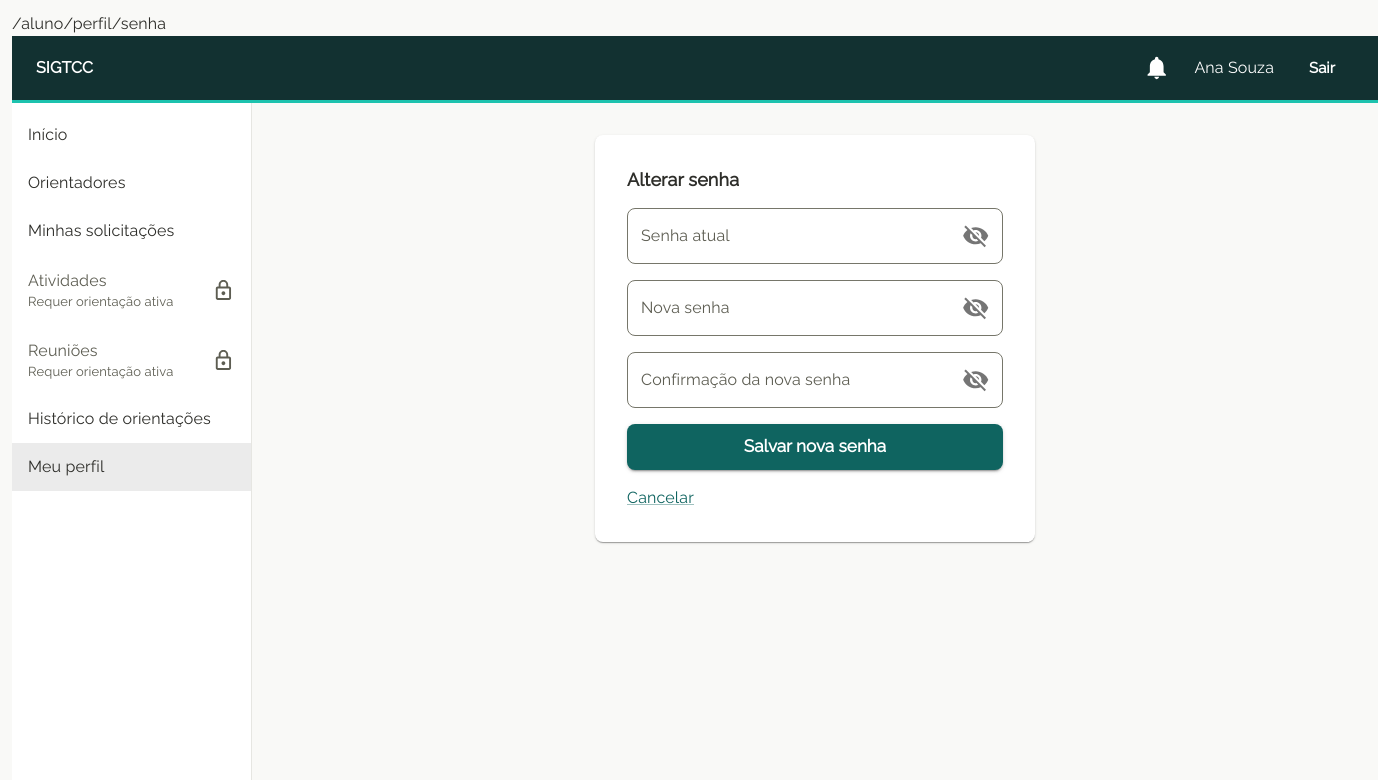
Test case: ChangePasswordPage: a troca › este dispositivo continua conectado: o pedido seguinte já leva o novo token, sem pedir login
The width and height of the screenshot is (1378, 780).
Check: the heading "Alterar senha" is shown, box x1=627 y1=169 x2=739 y2=190
Type "senha-atual-123" into the password field labelled "Senha atual" at (784, 236), box x1=627 y1=208 x2=942 y2=264
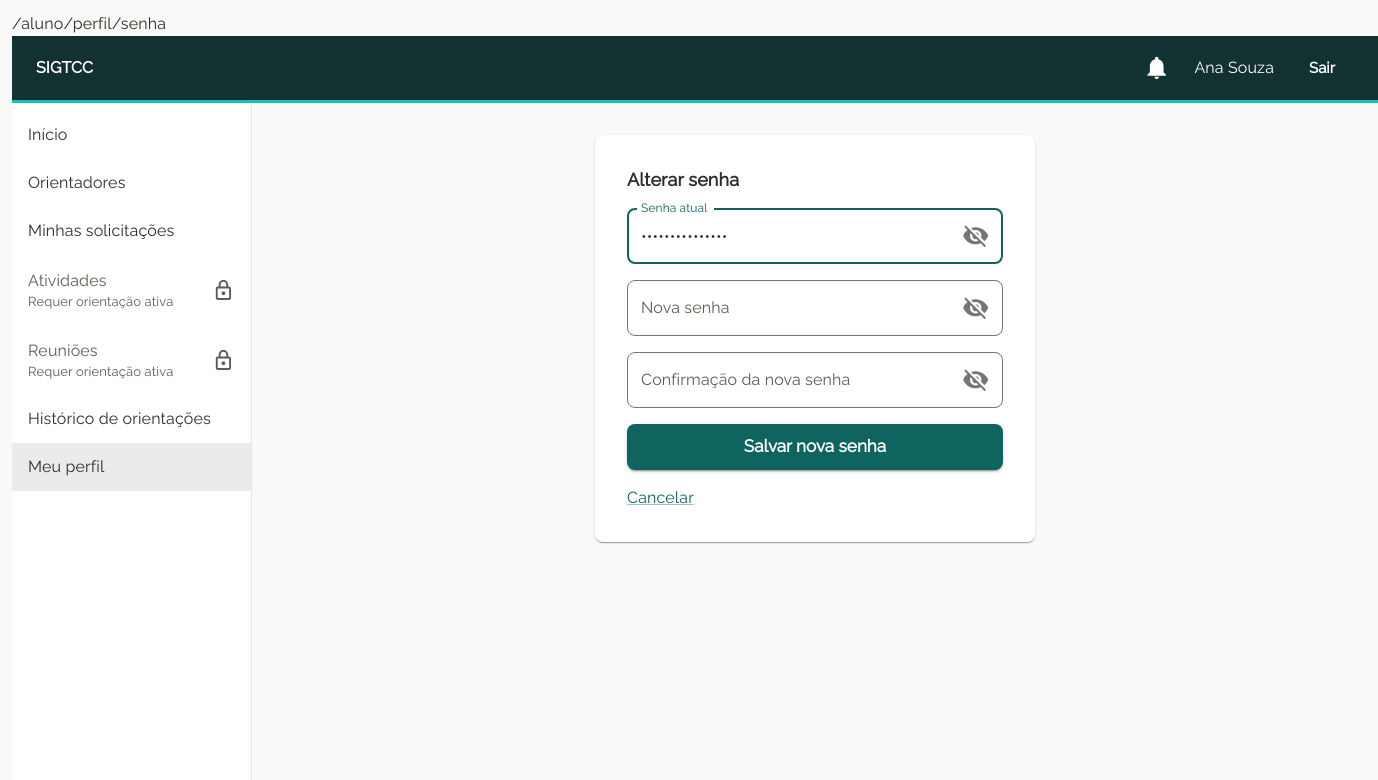
Type "NovaSenha#456" into the password field labelled "Nova senha" at (784, 308), box x1=627 y1=280 x2=942 y2=336
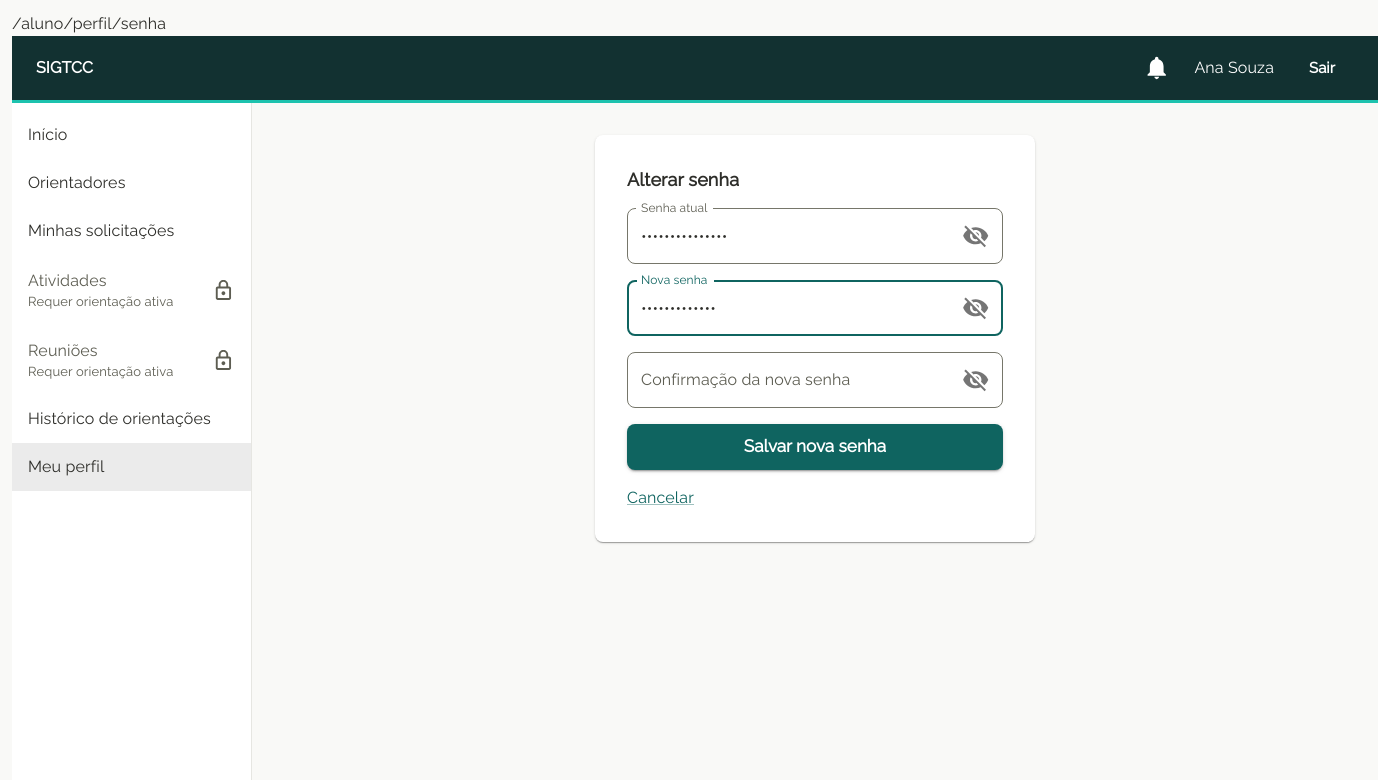
Type "NovaSenha#456" into the password field labelled "Confirmação da nova senha" at (784, 380), box x1=627 y1=352 x2=942 y2=408
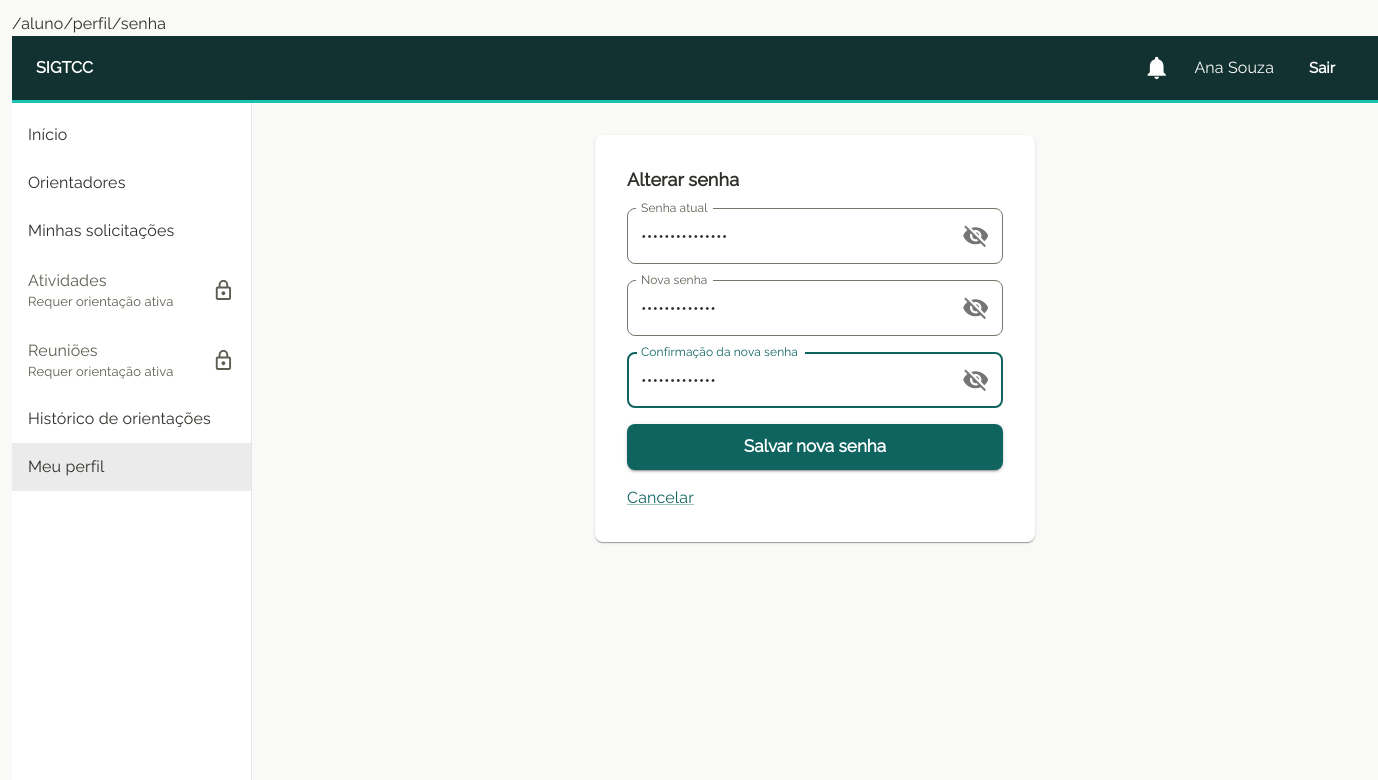
Click the button "Salvar nova senha" at (815, 447), box x1=627 y1=424 x2=1003 y2=470
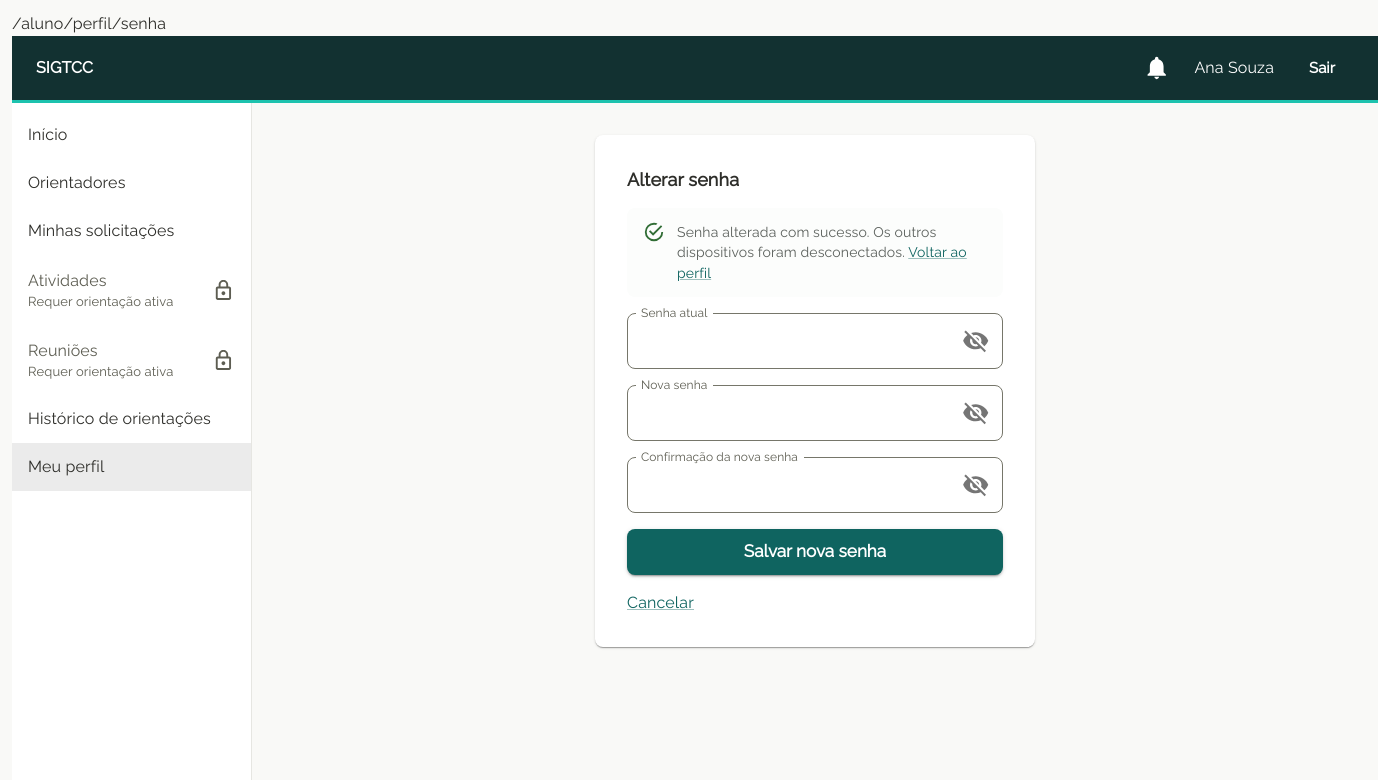
Click the link "Voltar ao perfil" at (938, 252), box x1=677 y1=244 x2=967 y2=281
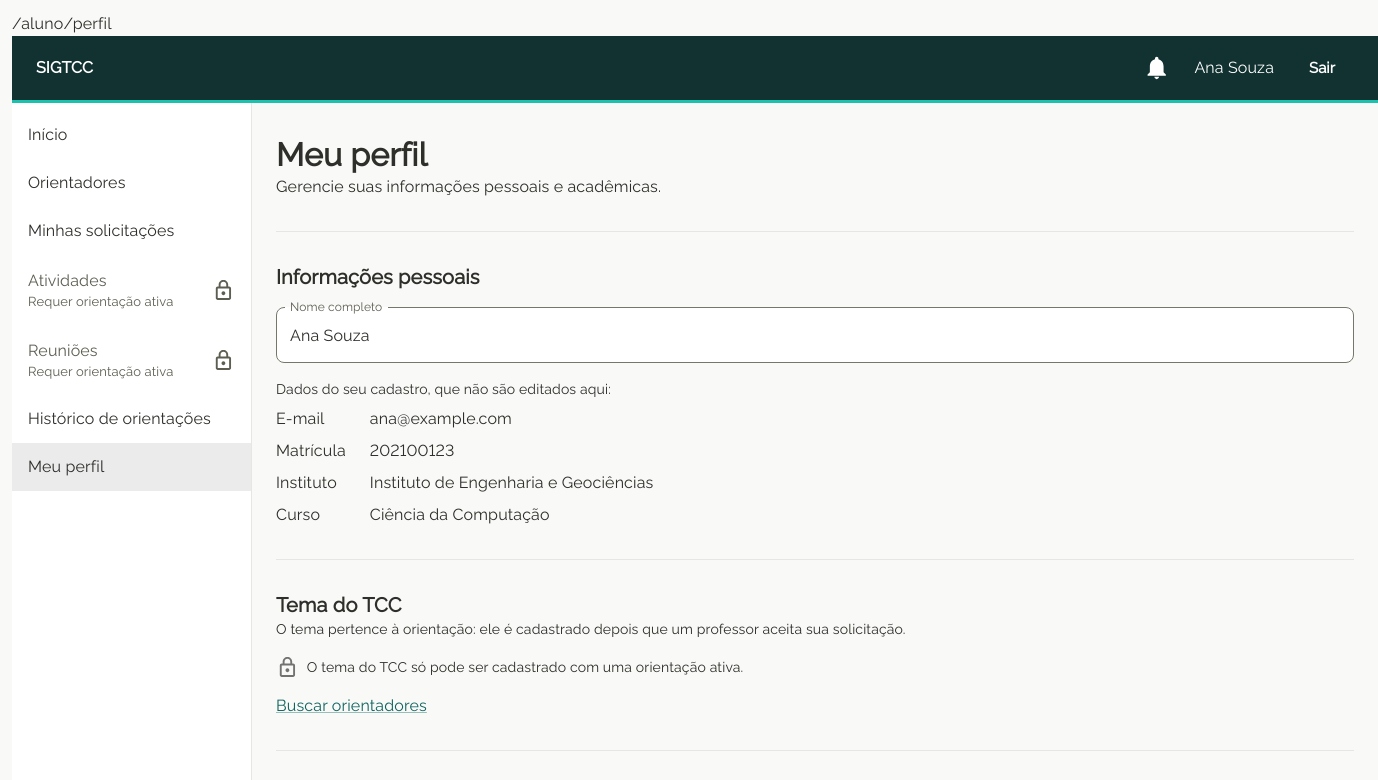
Check: the text with test id "location" reads "/aluno/perfil", box x1=12 y1=14 x2=112 y2=33
Check: the field labelled "Nome completo" is shown, box x1=276 y1=307 x2=1354 y2=363
